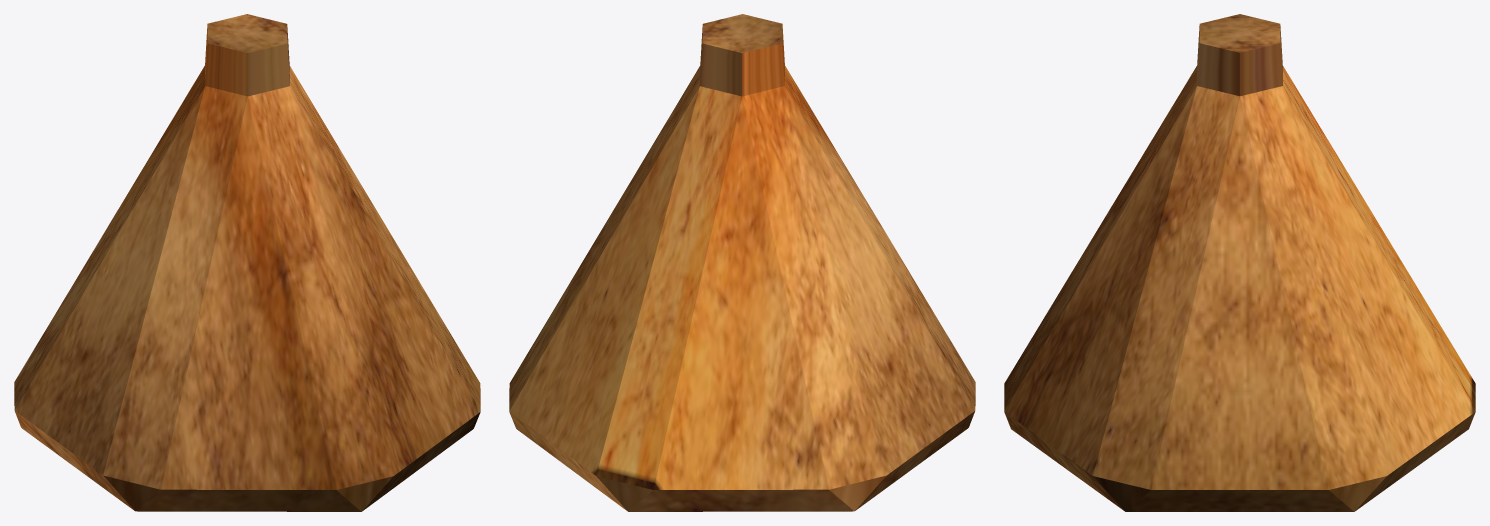
File: lamb.fbx
The picture shows the model from 3 angles, left to right: view 1: azimuth 30°, elevation 25°; view 2: azimuth 150°, elevation 25°; view 3: azimuth 270°, elevation 25°; orthographic projection.
Visible parts, largest first — view 1: Lamp; view 2: Lamp; view 3: Lamp.
Part boxes in pixels (left/top/right/bottom): Lamp: left=14, top=14, right=480, bottom=511; Lamp: left=509, top=14, right=975, bottom=511; Lamp: left=1004, top=14, right=1475, bottom=511.
Size of the model in its own units: 50 by 50 by 54.
1 material, 1 textured.
